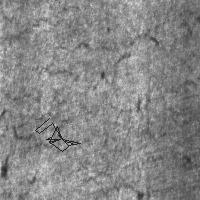crazing: (7, 19, 198, 88), (1, 89, 72, 159), (35, 118, 80, 151)
